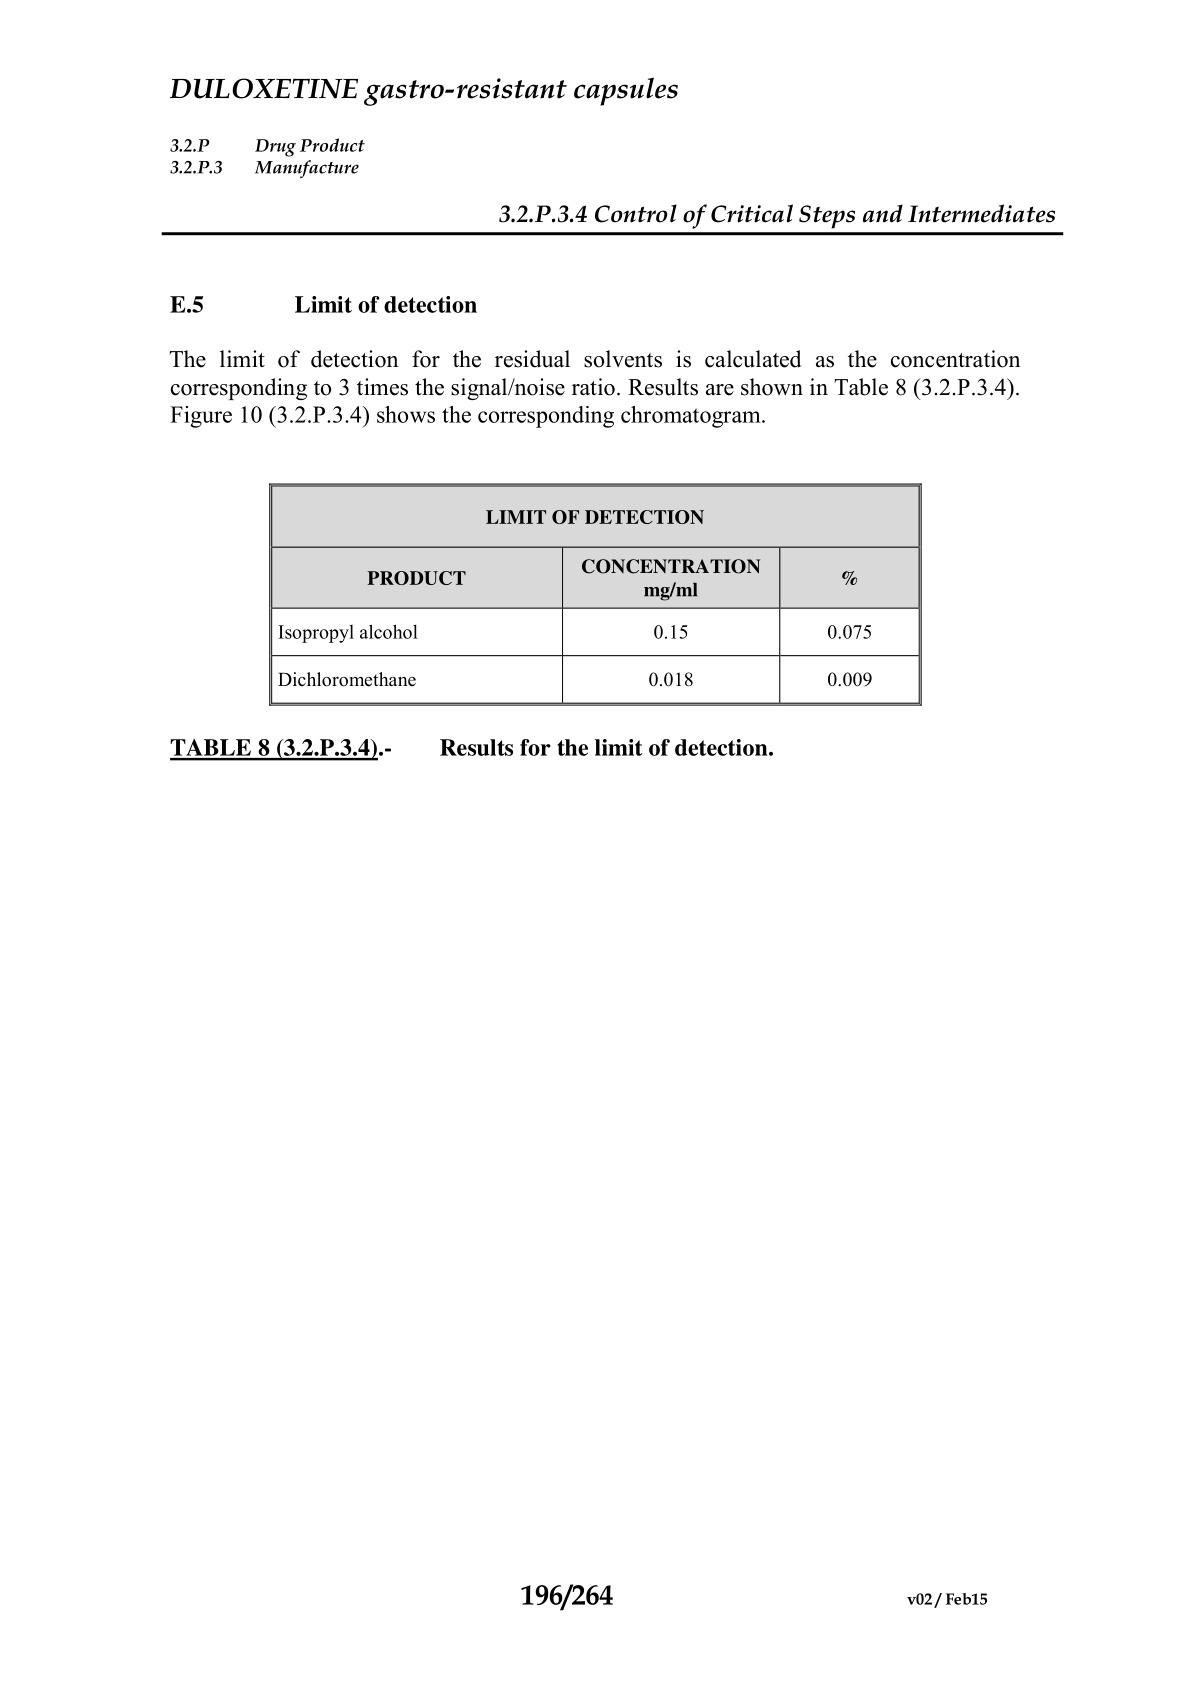merged_cells: (267, 482, 922, 706)
